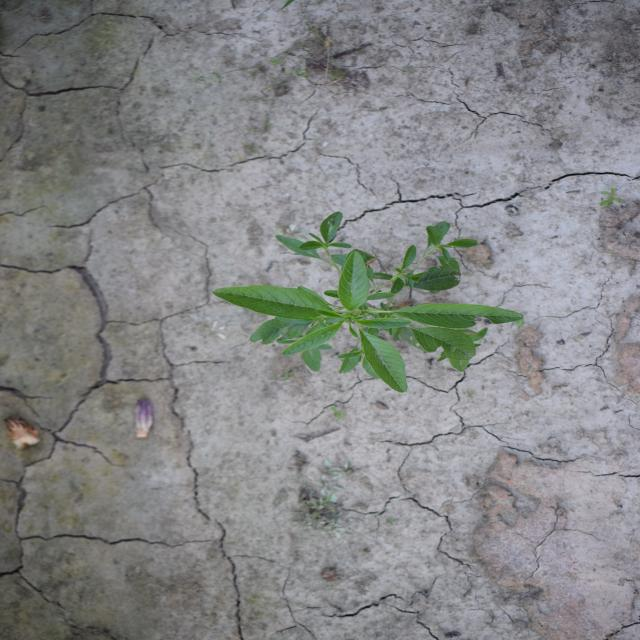Waterhemp: (211, 210, 527, 395)
